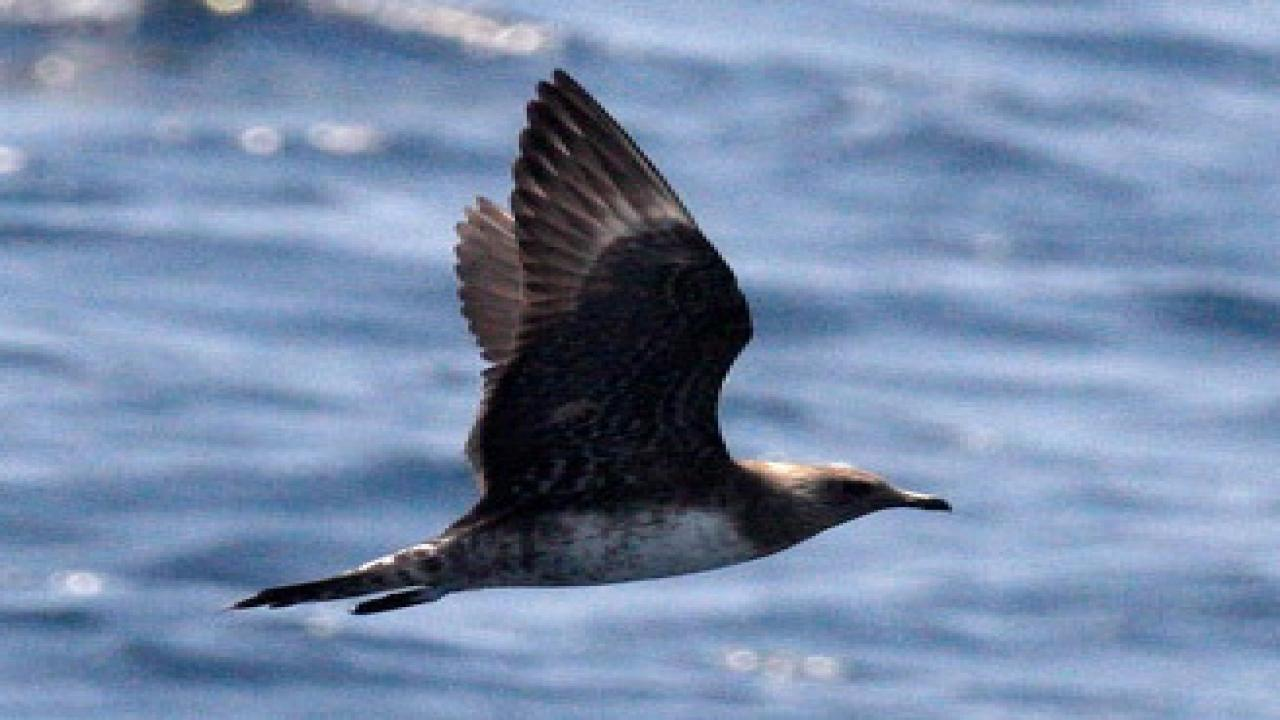Bird: (216, 68, 956, 626)
